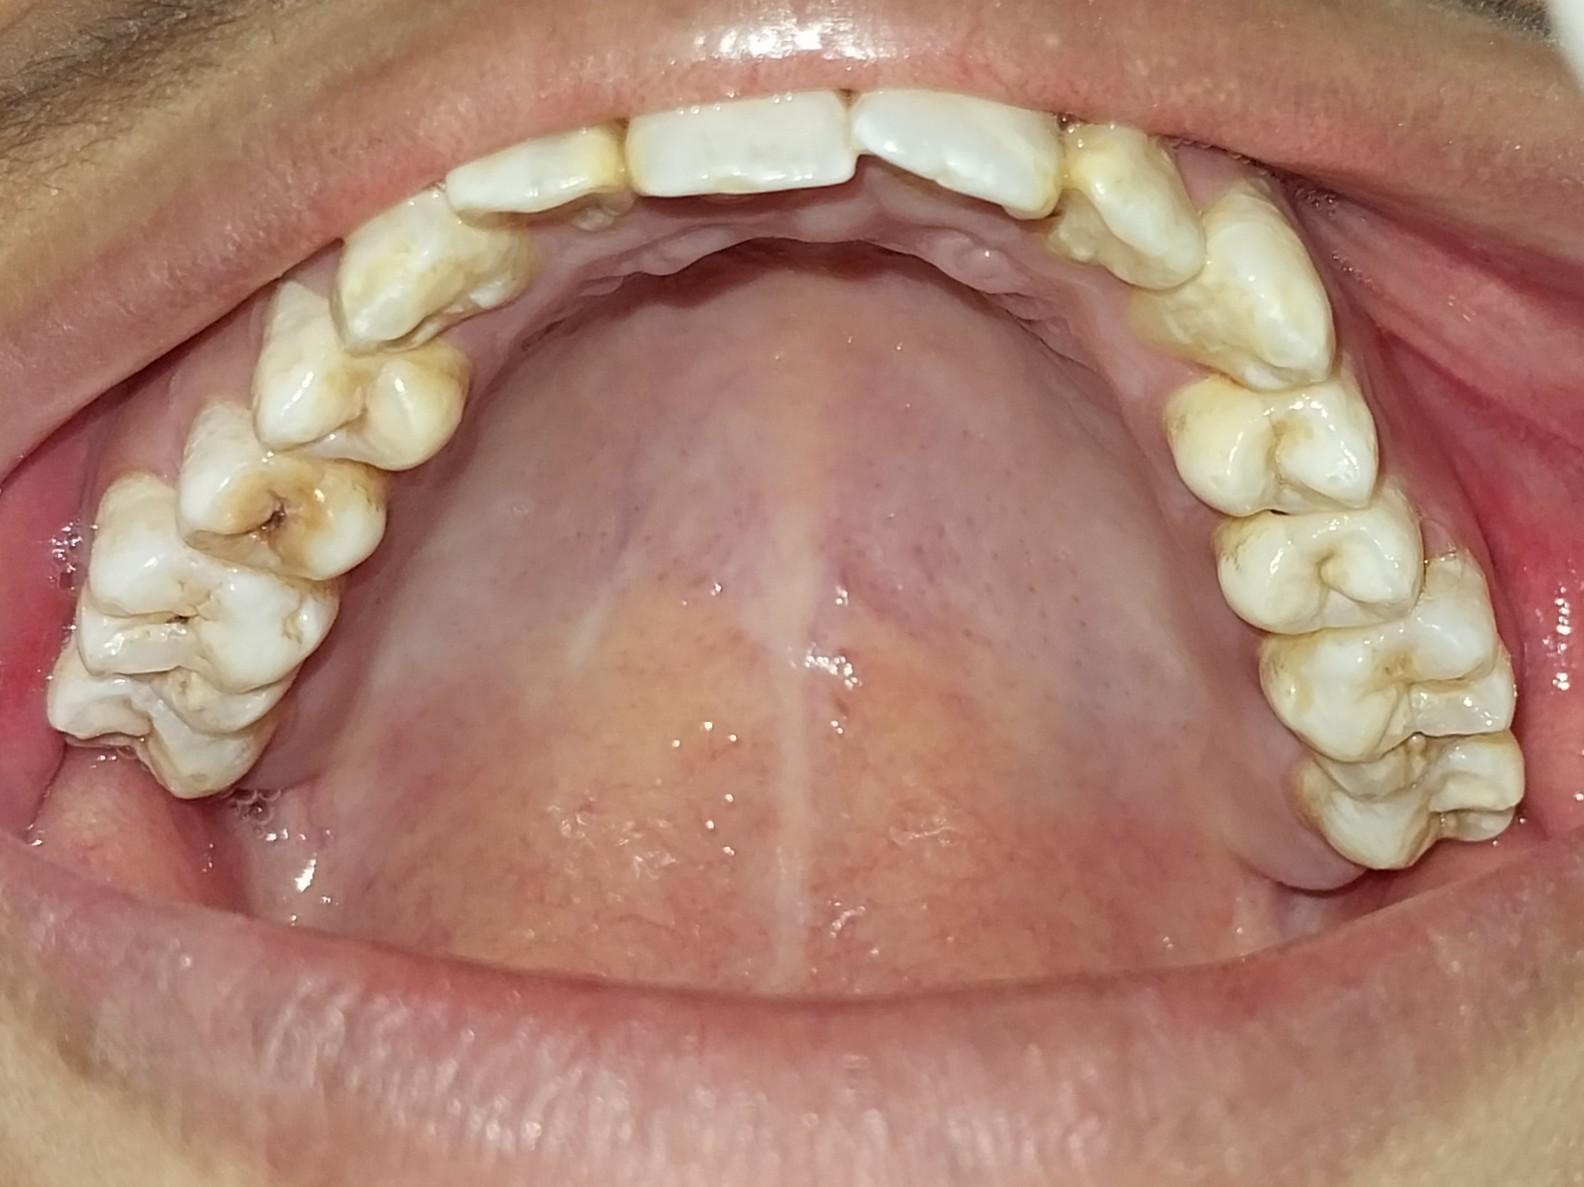D: (70, 469, 343, 735), (1254, 555, 1522, 799), (167, 395, 387, 581)
